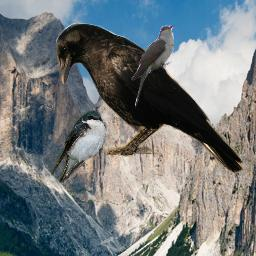Crow: (56, 23, 246, 173)
Cuckoo: (131, 25, 174, 108)
Swallow: (51, 108, 108, 183)
